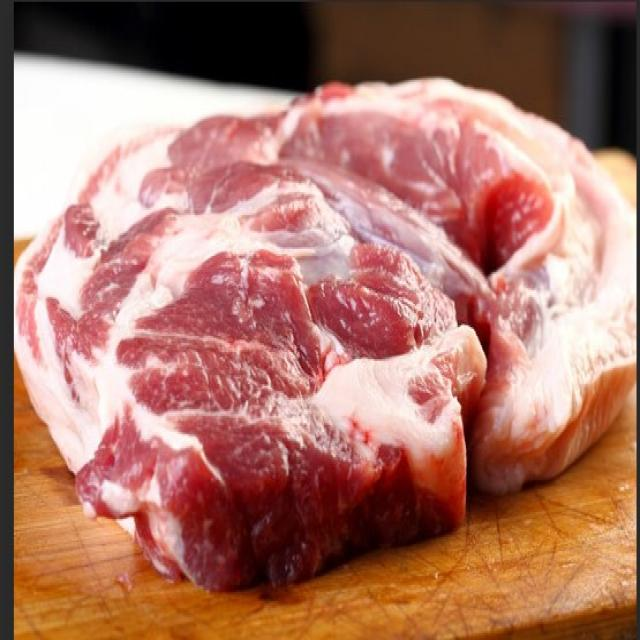Pork: (21, 53, 638, 617)
